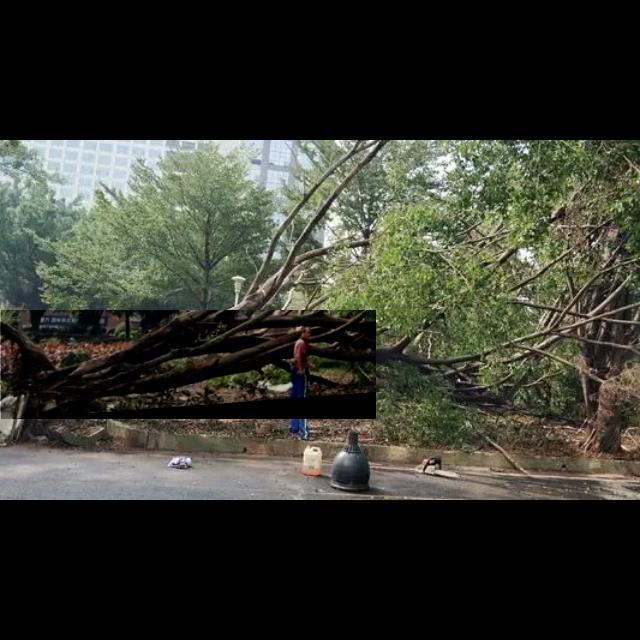Fallen Tree: (1, 310, 377, 420)
